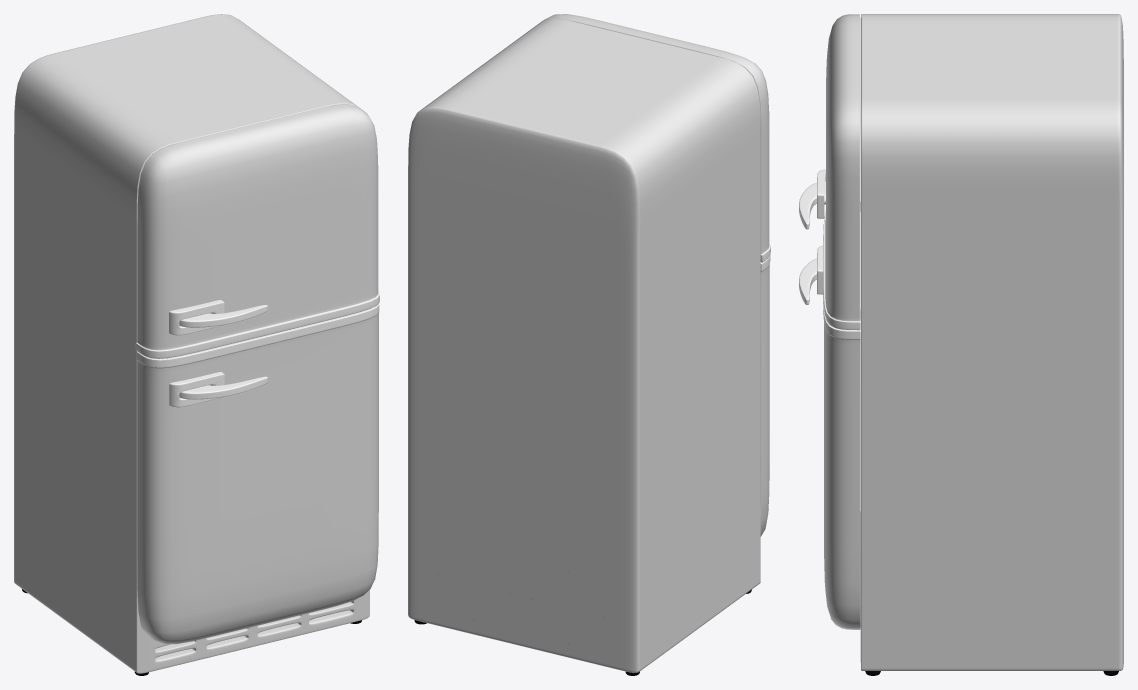
Rendered from white_fridge.glb.
3 views of the same model, side by side, from view 1: azimuth 30°, elevation 25°; view 2: azimuth 150°, elevation 25°; view 3: azimuth 270°, elevation 25° (orthographic). The views are drawn at different scales.
Parts seen in each view (by area): view 1: Cube, Cube.002, Cube.001, Cube.003, Cube.004; view 2: Cube, Cube.001, Cube.002; view 3: Cube, Cube.002, Cube.001, Cube.003, Cube.004.
Part boxes in pixels (box(x1,y1,x2,y2)): Cube: box(14, 14, 369, 673); Cube.002: box(136, 303, 379, 644); Cube.001: box(135, 104, 379, 358); Cube.003: box(169, 300, 267, 335); Cube.004: box(169, 372, 267, 407); Cube: box(408, 18, 760, 672); Cube.001: box(539, 14, 770, 262); Cube.002: box(760, 256, 770, 536); Cube: box(860, 14, 1123, 670); Cube.002: box(823, 212, 860, 629); Cube.001: box(823, 14, 860, 330); Cube.003: box(799, 169, 825, 229); Cube.004: box(799, 245, 823, 304).
Size of the model in its own units: 0.8509 by 1.82 by 0.9601.
Materials: 3 (2 with a texture image).
